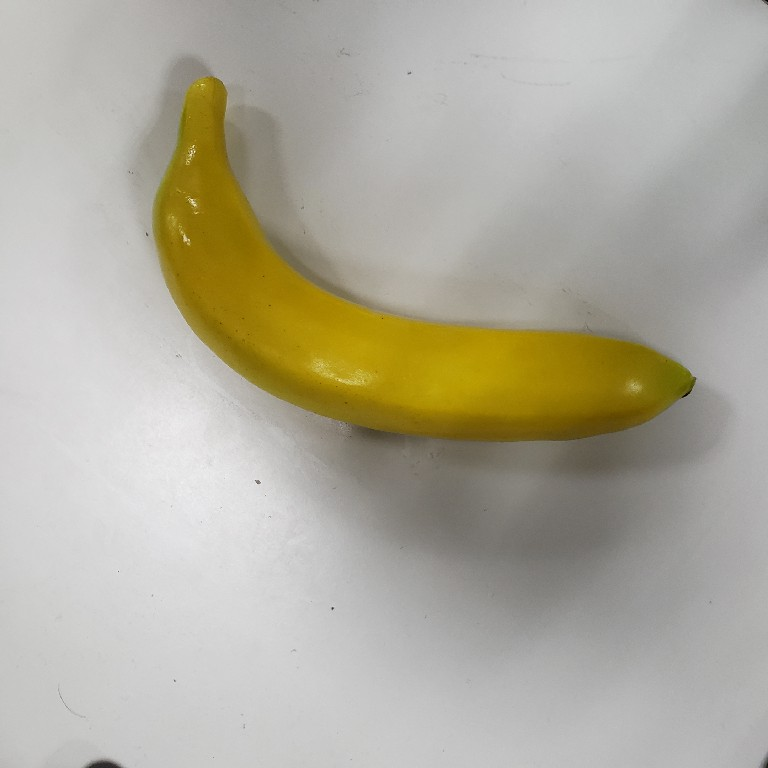fruit_banana: (146, 72, 702, 448)
